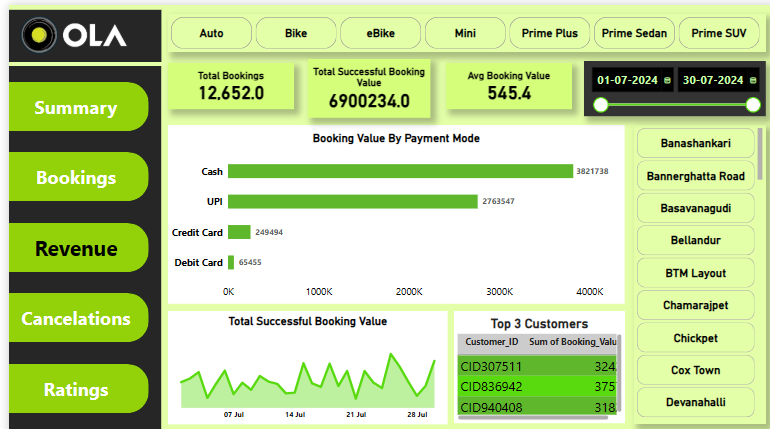

The dashboard page shown, as its layout file describes it:
{"tool":"powerbi","page":{"name":"Revenue","canvas":[1280,720],"ordinal":3},"visuals":[{"type":"group","id":"g1","title":"Group 1","box":[0,102,253.7,618],"z":0,"group":"g2"},{"type":"shape","box":[0,102,253.7,618],"z":0,"group":"g1"},{"type":"barChart","title":"Booking Value By Payment Mode","fields":{"Category":["July.Payment_Method"],"Y":["Sum(July.Booking_Value)"]},"box":[265,201.3,761.1,297.6],"z":0},{"type":"image","box":[0,0,253.7,102],"z":1000,"group":"g2"},{"type":"advancedSlicerVisual","fields":{"Values":["July.Vehicle_Type"]},"box":[265,15.6,996.4,63.8],"z":1000},{"type":"actionButton","box":[0,363,233.3,82],"z":1000,"group":"g1"},{"type":"advancedSlicerVisual","fields":{"Values":["July.Pickup_Location"]},"box":[1041.7,199.8,219.7,498.9],"z":2000},{"type":"actionButton","box":[0,245.5,233.3,82],"z":2000,"group":"g1"},{"type":"slicer","title":"Date","fields":{"Values":["July.Date"]},"box":[958.1,93.5,303.3,92.1],"z":3000},{"type":"actionButton","box":[0,128,233.3,82],"z":3000,"group":"g1"},{"type":"card","title":"Total Successful Booking Value","fields":{"Values":["Sum(July.Booking_Value)"]},"box":[501.7,89.9,212.6,93.5],"z":4000,"group":"g3"},{"type":"actionButton","box":[0,480.5,233.3,82],"z":4000,"group":"g1"},{"type":"lineChart","title":"Total Successful Booking Value","fields":{"Y":["Sum(July.Booking_Value)"],"Category":["July.Date"]},"box":[265,510.2,466.3,188.5],"z":4000},{"type":"card","title":"Avg Booking Value","fields":{"Values":["Avg(July.Booking_Value)"]},"box":[728.5,90,209.8,93.5],"z":5000,"group":"g3"},{"type":"tableEx","title":"Top 3 Customers","fields":{"Values":["July.Customer_ID","Sum(July.Booking_Value)"]},"box":[741.3,510.2,284.9,187.1],"z":5000},{"type":"actionButton","box":[0,598,233.3,82],"z":5000,"group":"g1"},{"type":"group","id":"g2","title":"Group 2","box":[0,0,253.7,720],"z":6000},{"type":"group","id":"g3","title":"Group 3","box":[265,89.9,673.2,93.6],"z":7000},{"type":"card","title":"Total Successful Bookings","fields":{"Values":["CountNonNull(July.Booking_ID)"]},"box":[265,90,223.9,93.5],"z":7000,"group":"g3"}]}

Visuals, with their boxes in screenshot pixels (x1, y1, x2, y2), scaled from the page's 1280x720 canvas onto the 770x429 screenshot:
"Group 1" group: 0/61/153/428
shape: 0/61/153/428
"Booking Value By Payment Mode" barChart: 159/120/617/297
image: 0/0/153/61
advancedSlicerVisual - July.Vehicle_Type: 159/9/759/47
actionButton: 0/216/140/265
advancedSlicerVisual - July.Pickup_Location: 627/119/759/416
actionButton: 0/146/140/195
"Date" slicer: 576/56/759/111
actionButton: 0/76/140/125
"Total Successful Booking Value" card: 302/54/430/109
actionButton: 0/286/140/335
"Total Successful Booking Value" lineChart: 159/304/440/416
"Avg Booking Value" card: 438/54/564/109
"Top 3 Customers" tableEx: 446/304/617/415
actionButton: 0/356/140/405
"Group 2" group: 0/0/153/428
"Group 3" group: 159/54/564/109
"Total Successful Bookings" card: 159/54/294/109
